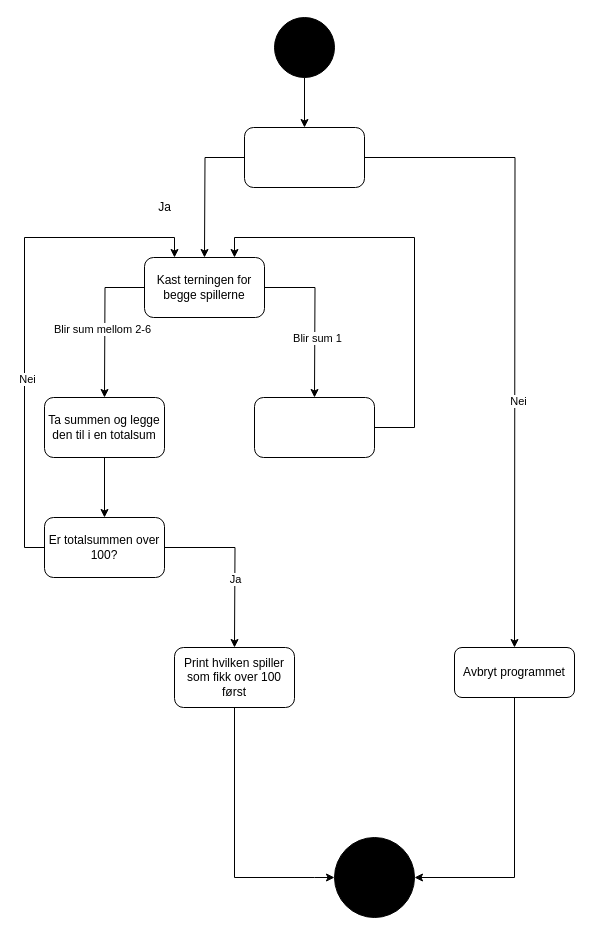
The diagram is 592 pixels wide and 935 high, and some of its shapes have lost their labels. The shapes that lost their labels are listed below. From the top down, each one's centre as x and y in pixels, then its label:
At [304,157]: "Ønsker du å spille terningspillet?".
At [314,427]: "Endre totalsum til 0".
